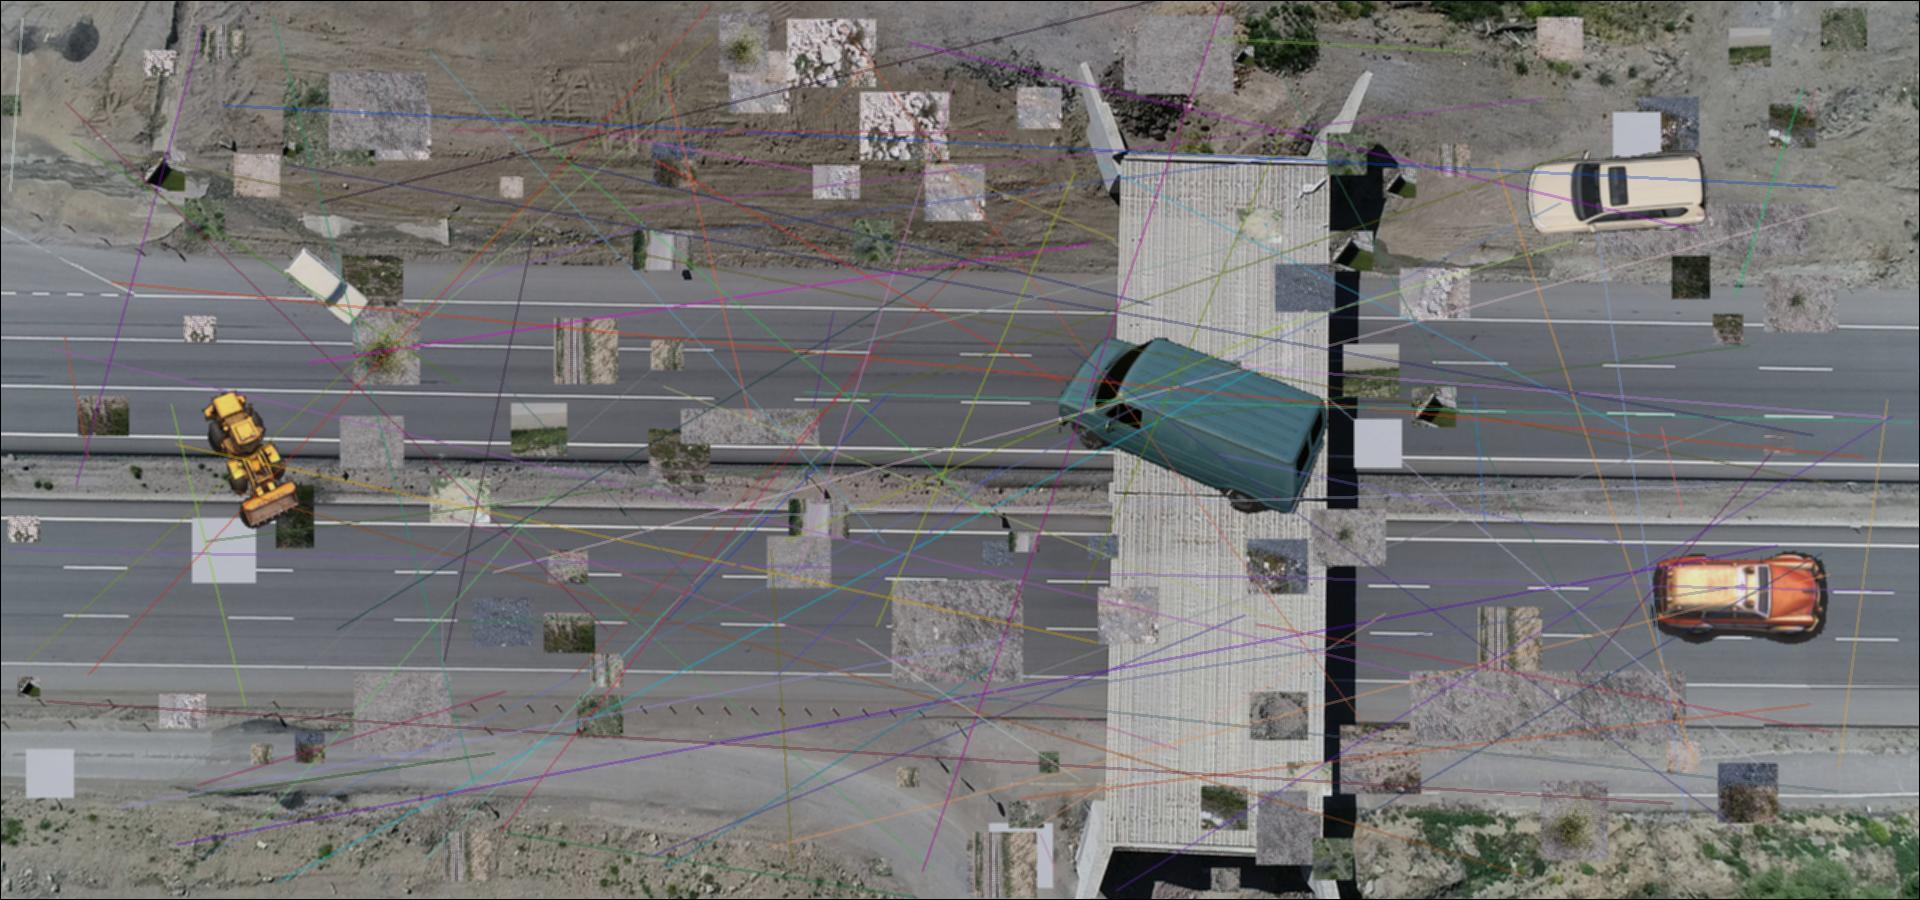arac: (1059, 334, 1331, 514), (1651, 550, 1837, 644), (1518, 146, 1711, 234), (192, 389, 310, 529), (280, 245, 369, 326)
